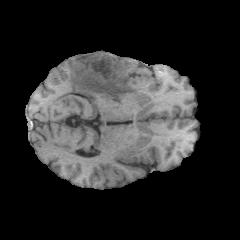glioma: (69, 53, 136, 104)
